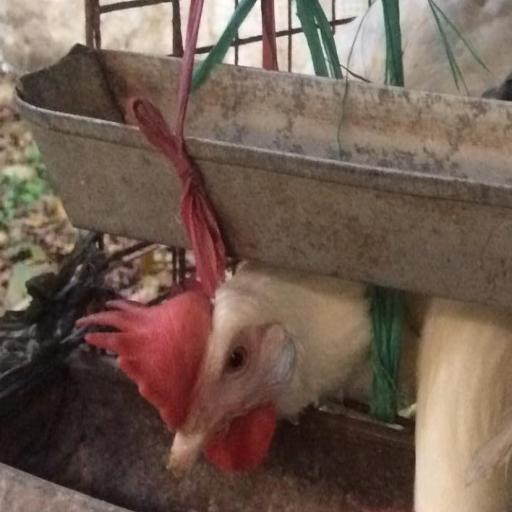healthy: (92, 282, 317, 487)
